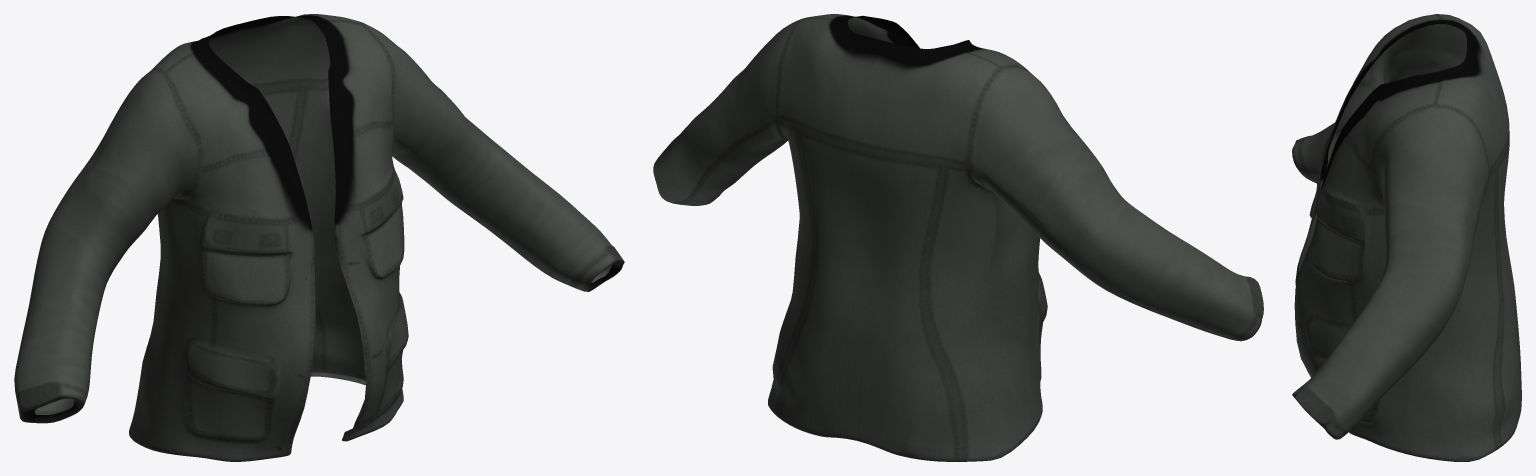
The model's file is ONFIT_Outer_BodyBuild_v3.glb.
The picture shows the model from 3 angles, left to right: view 1: azimuth 30°, elevation 25°; view 2: azimuth 150°, elevation 25°; view 3: azimuth 270°, elevation 25°; orthographic projection. The views are drawn at different scales.
Visible parts, largest first — view 1: ONFIT_Outer; view 2: ONFIT_Outer; view 3: ONFIT_Outer.
Boxes of the visible parts, x1,y1,x2,y2 form: ONFIT_Outer: [14, 14, 624, 461]; ONFIT_Outer: [653, 14, 1263, 461]; ONFIT_Outer: [1292, 14, 1521, 461].
Bounding box in the file's own units: 1 × 0.6186 × 0.3547.
1 material, 1 textured.
